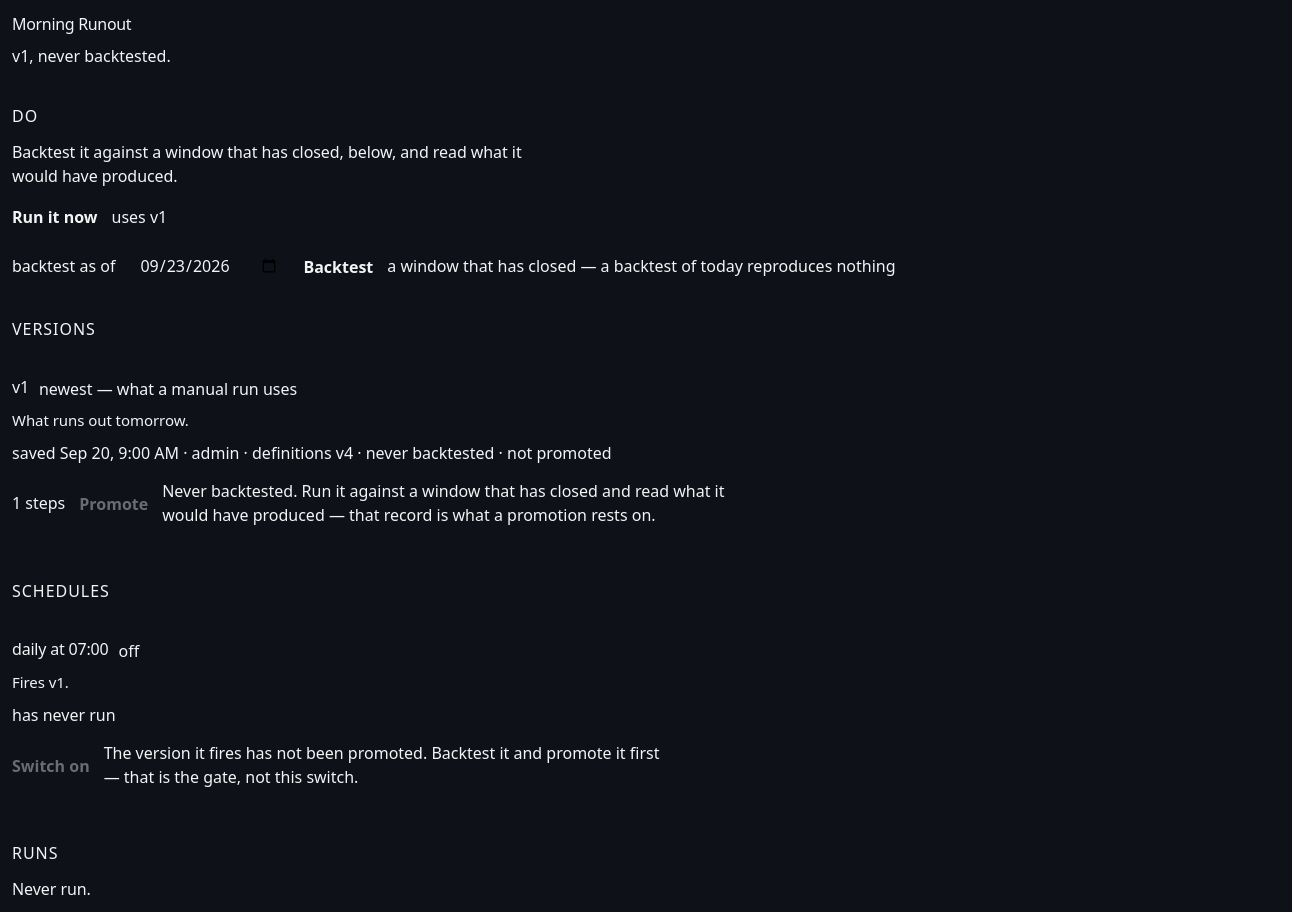
the four acts are on the system's own page › runs it now against the newest version
Click the button "Run it now".
click(55, 216)  # box x1=12 y1=202 x2=98 y2=231
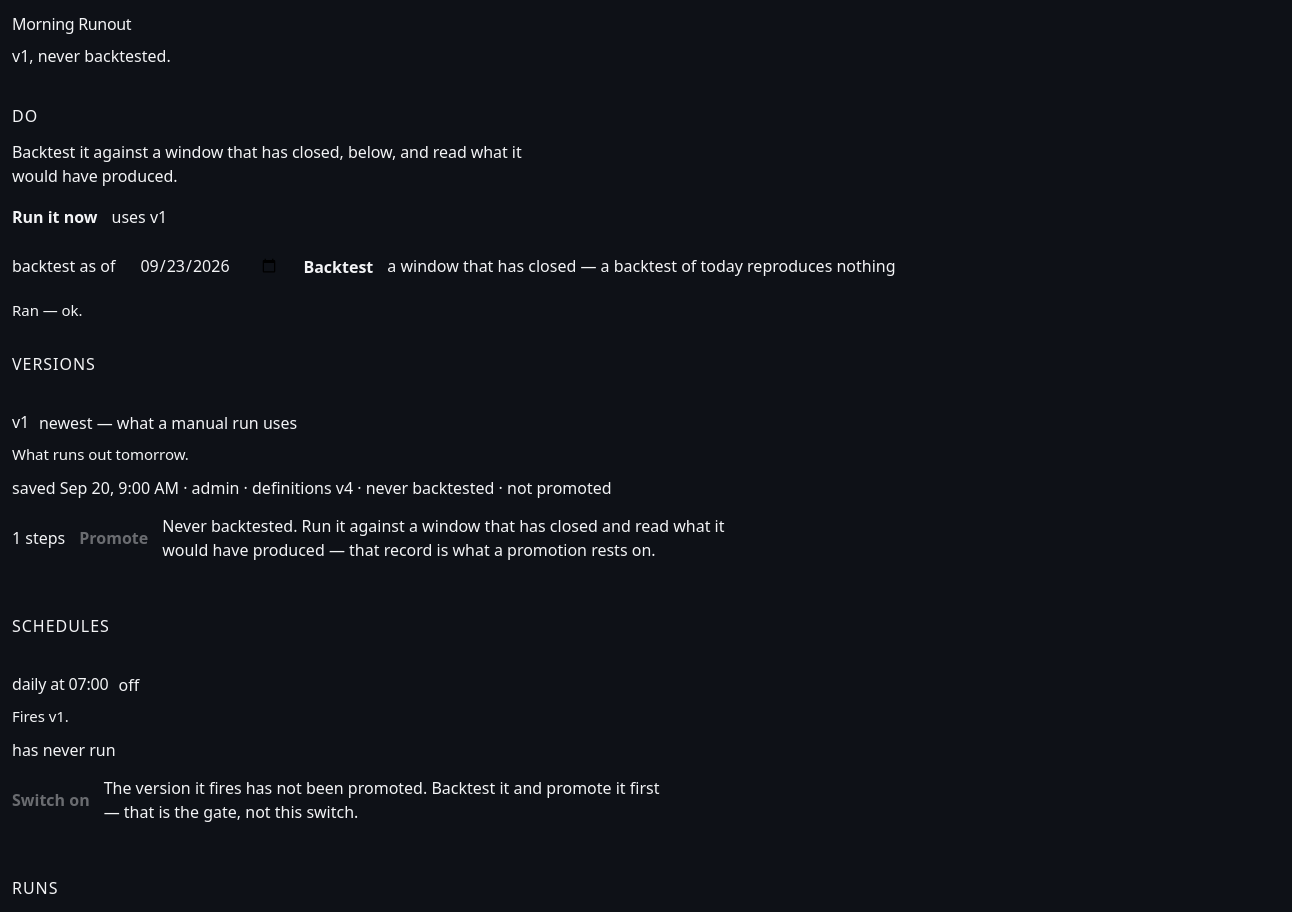
Result: the text "Ran — ok." is shown at x1=12 y1=300 x2=82 y2=320
